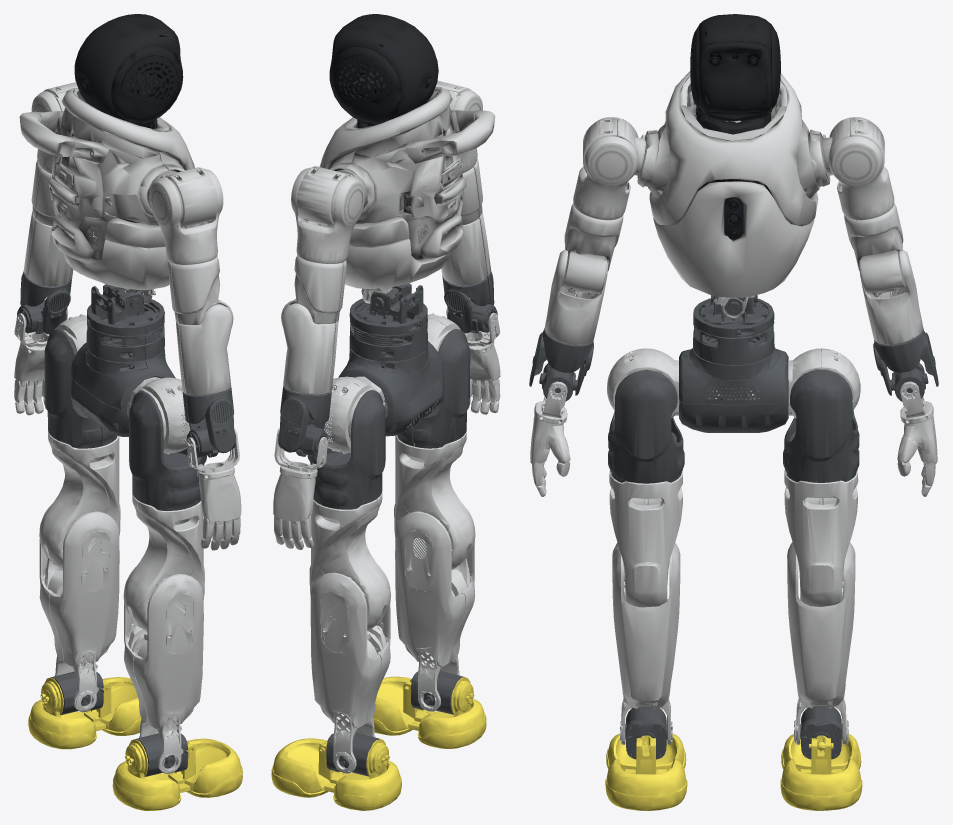
Rendered from x2-ultra.glb.
3 renders of one model, left to right at view 1: azimuth 30°, elevation 25°; view 2: azimuth 150°, elevation 25°; view 3: azimuth 270°, elevation 25°, orthographic. The views are drawn at different scales.
Parts seen in each view (by area): view 1: torso_link_visual, left_knee_link_visual, right_knee_link_visual, head_pitch_link_visual, right_ankle_roll_link_visual, left_hip_yaw_link_visual, right_hip_yaw_link_visual, right_hip_roll_link_visual, left_ankle_roll_link_visual, pelvis_visual, waist_yaw_link_visual, left_hip_roll_link_visual (+17 smaller); view 2: torso_link_visual, left_knee_link_visual, right_knee_link_visual, head_pitch_link_visual, left_ankle_roll_link_visual, right_hip_yaw_link_visual, left_hip_yaw_link_visual, left_hip_roll_link_visual, right_ankle_roll_link_visual, pelvis_visual, waist_yaw_link_visual, right_hip_roll_link_visual (+17 smaller); view 3: torso_link_visual, head_pitch_link_visual, pelvis_visual, left_knee_link_visual, right_knee_link_visual, right_hip_roll_link_visual, left_hip_roll_link_visual, left_hip_yaw_link_visual, right_hip_yaw_link_visual, left_ankle_roll_link_visual, right_ankle_roll_link_visual, waist_yaw_link_visual (+20 smaller).
Boxes of the visible parts, x1,y1,x2,y2 form: torso_link_visual: (19, 88, 194, 304); left_knee_link_visual: (39, 504, 119, 712); right_knee_link_visual: (124, 567, 203, 773); head_pitch_link_visual: (74, 14, 183, 123); right_ankle_roll_link_visual: (112, 738, 242, 810); left_hip_yaw_link_visual: (39, 431, 120, 569); right_hip_yaw_link_visual: (123, 493, 204, 631); right_hip_roll_link_visual: (129, 391, 206, 510); left_ankle_roll_link_visual: (28, 677, 141, 749); pelvis_visual: (70, 337, 175, 436); waist_yaw_link_visual: (86, 284, 164, 368); left_hip_roll_link_visual: (44, 329, 117, 448); torso_link_visual: (319, 87, 495, 303); left_knee_link_visual: (310, 565, 390, 773); right_knee_link_visual: (395, 504, 475, 711); head_pitch_link_visual: (329, 14, 438, 123); left_ankle_roll_link_visual: (271, 738, 401, 810); right_hip_yaw_link_visual: (394, 431, 475, 569); left_hip_yaw_link_visual: (309, 492, 390, 630); left_hip_roll_link_visual: (307, 390, 385, 509); right_ankle_roll_link_visual: (373, 676, 486, 748); pelvis_visual: (338, 336, 444, 436); waist_yaw_link_visual: (349, 283, 427, 368); right_hip_roll_link_visual: (397, 329, 470, 448); torso_link_visual: (637, 71, 830, 318); head_pitch_link_visual: (690, 14, 780, 120); pelvis_visual: (679, 338, 788, 432); left_knee_link_visual: (787, 542, 855, 744); right_knee_link_visual: (612, 543, 680, 744); right_hip_roll_link_visual: (608, 370, 684, 483); left_hip_roll_link_visual: (783, 349, 859, 482); left_hip_yaw_link_visual: (784, 470, 858, 606); right_hip_yaw_link_visual: (609, 470, 682, 607); left_ankle_roll_link_visual: (780, 707, 862, 810); right_ankle_roll_link_visual: (605, 707, 687, 810); waist_yaw_link_visual: (693, 296, 774, 364).
Bounding box in the file's own units: 0.3072 × 1.32 × 0.6416.
